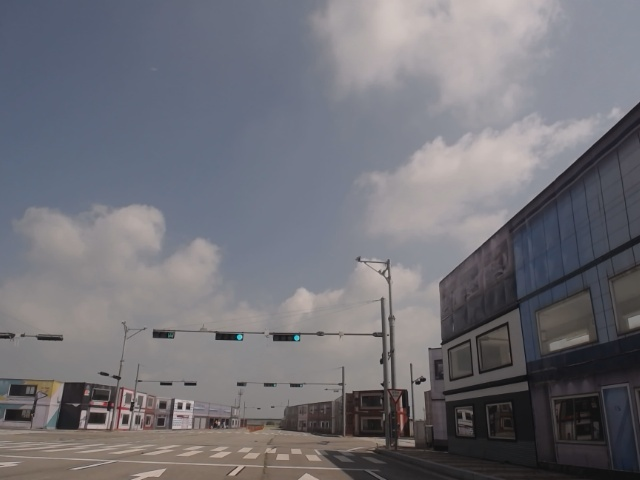straight_green_4: (214, 331, 244, 343), (273, 333, 301, 342)
